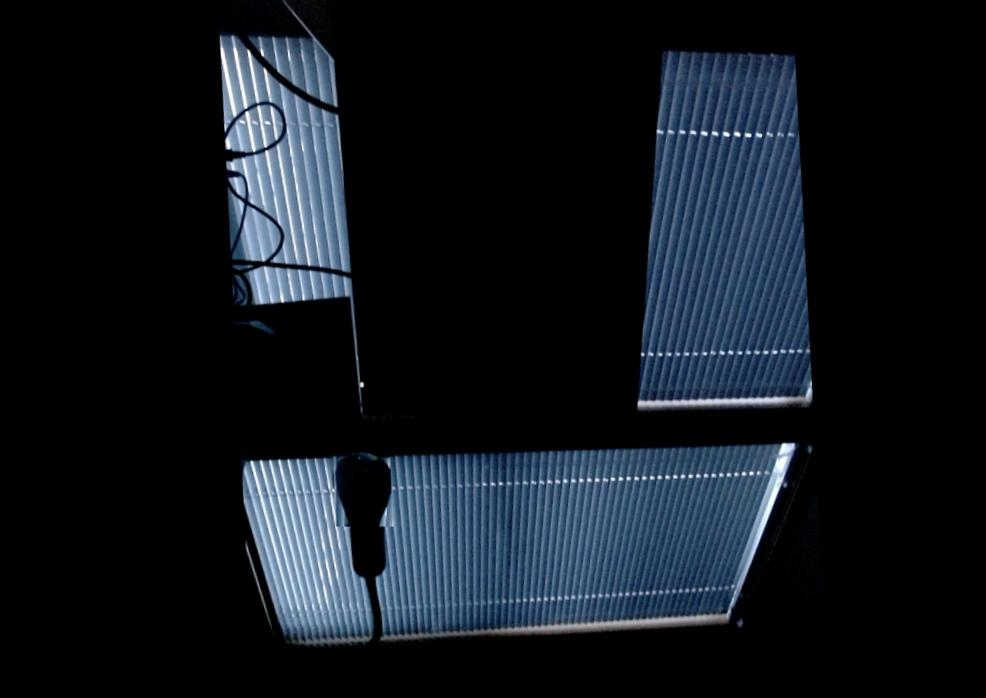Fan: (317, 454, 384, 533)
